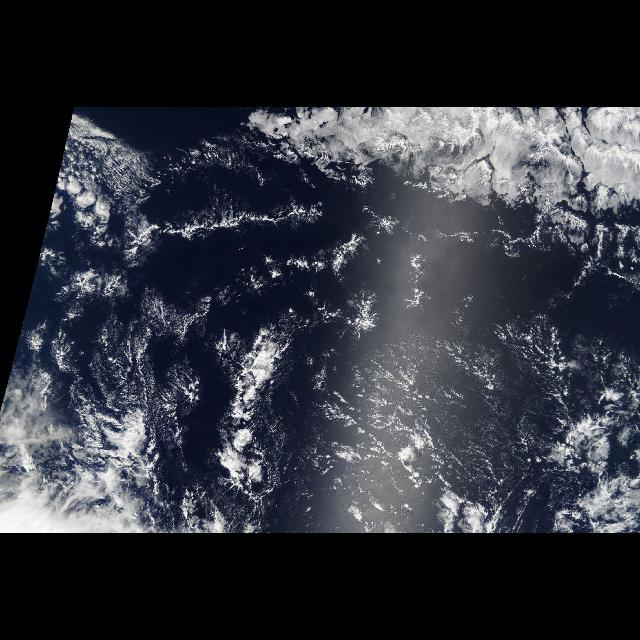Fish: (34, 276, 418, 520)
Flower: (243, 109, 639, 217)
Sugar: (353, 296, 637, 489), (84, 288, 212, 412)
